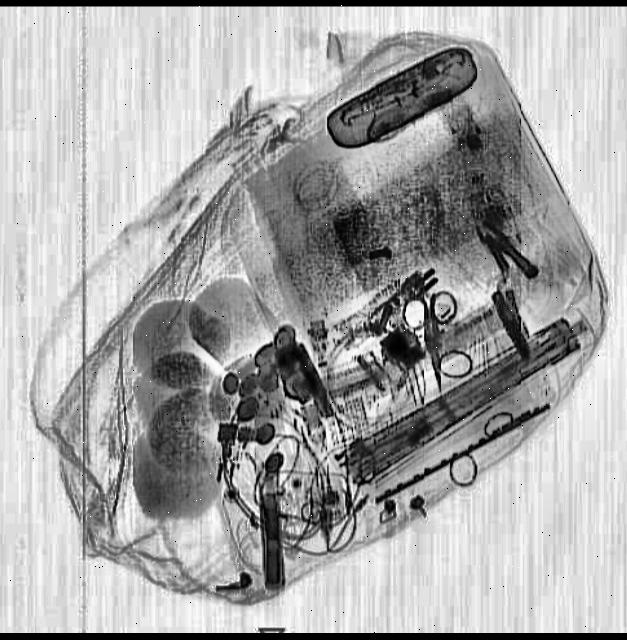Scissors: (395, 286, 466, 392)
